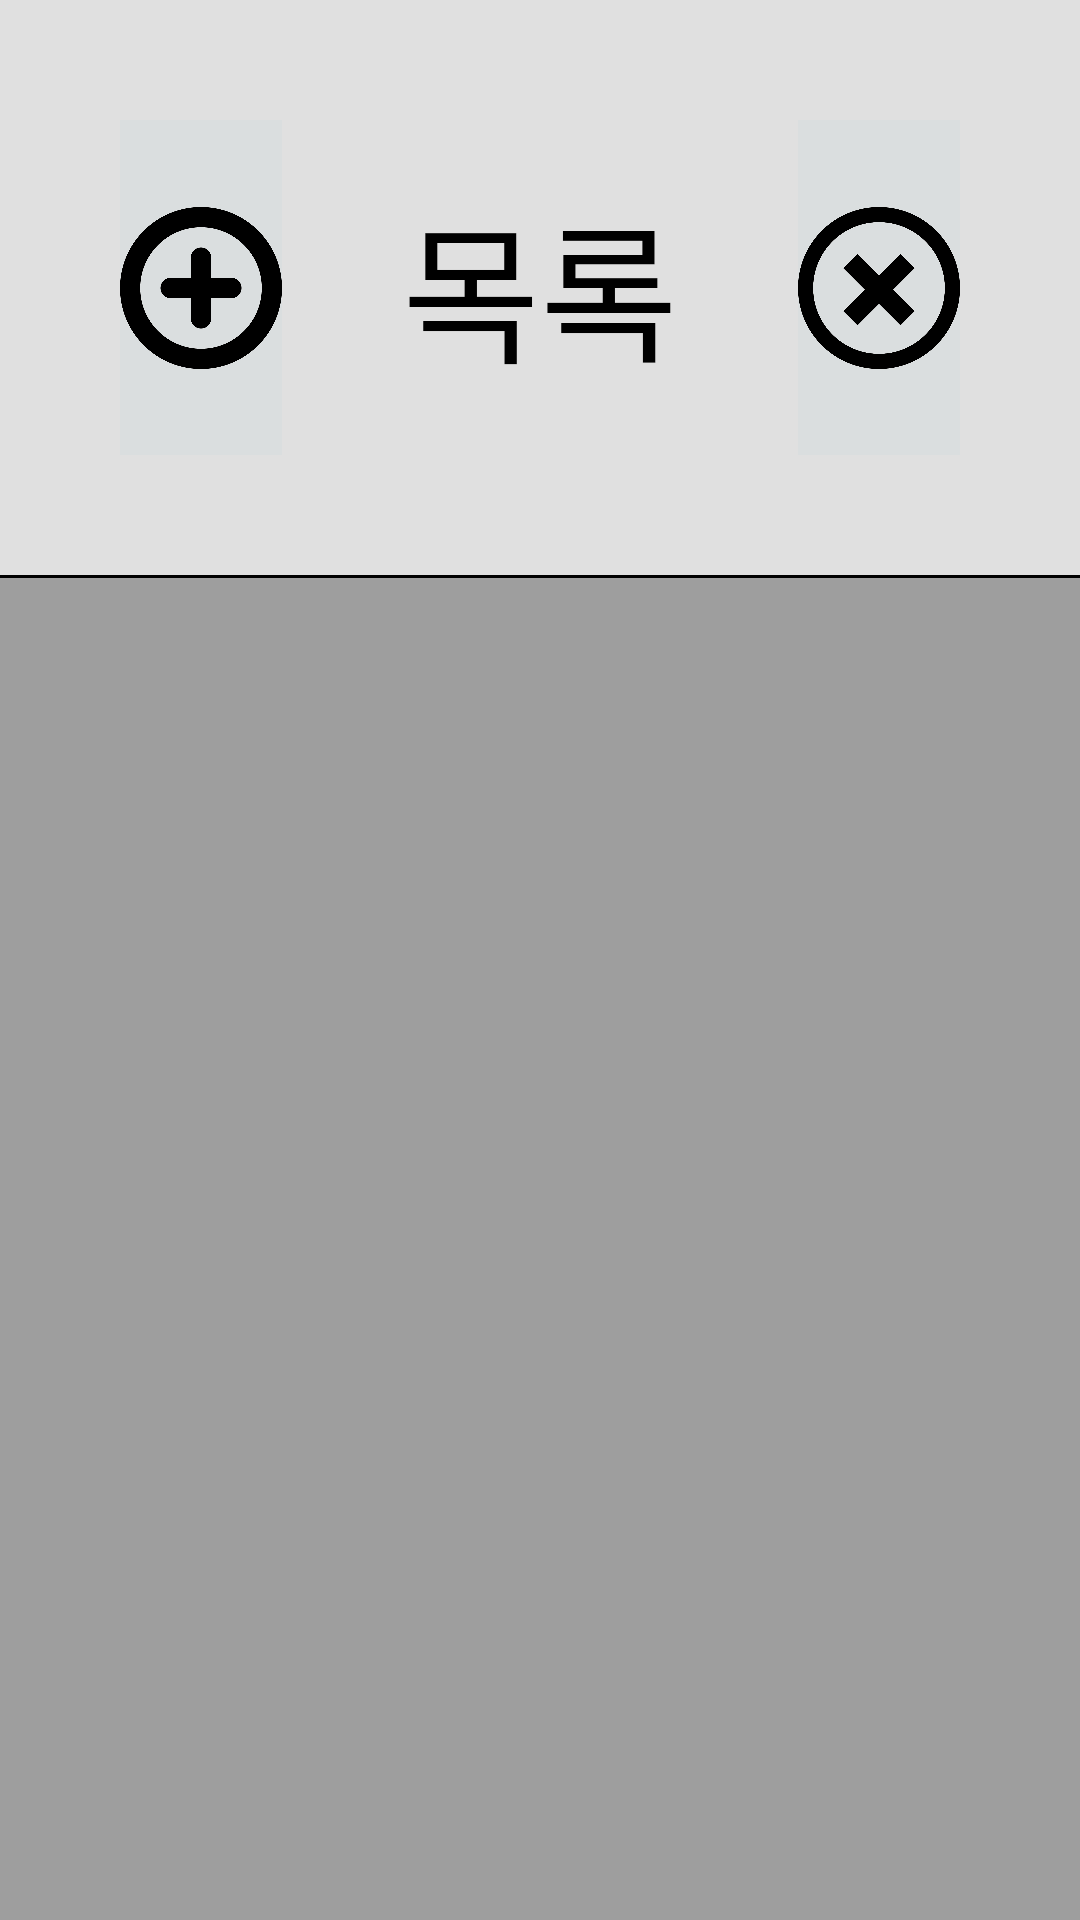

Screen size 1080*1920. Icon name, then its center in pixels as [x,y]:
delete: [879,288]
plus: [201,288]
